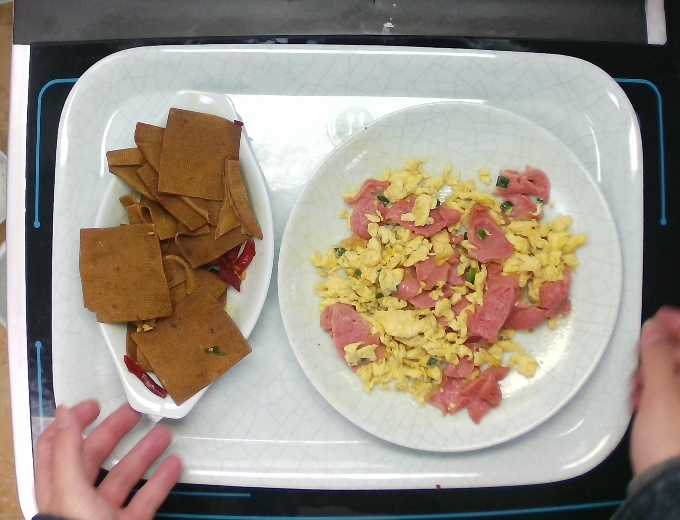JYsf-Da_Yuan_Pan: (272, 99, 627, 460)
JYsf-Yu_Pan: (75, 82, 281, 421)
